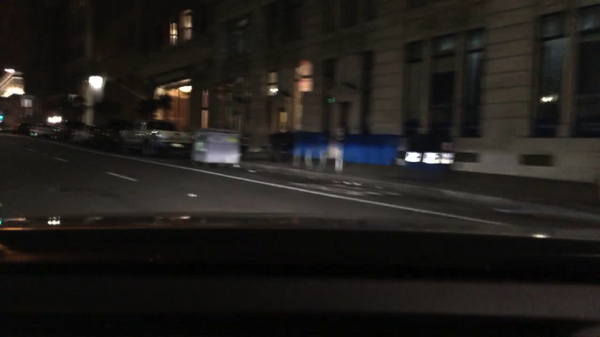car: (58, 118, 96, 141), (94, 118, 126, 144), (29, 122, 56, 139), (12, 121, 27, 133)
truck: (119, 118, 195, 156)
